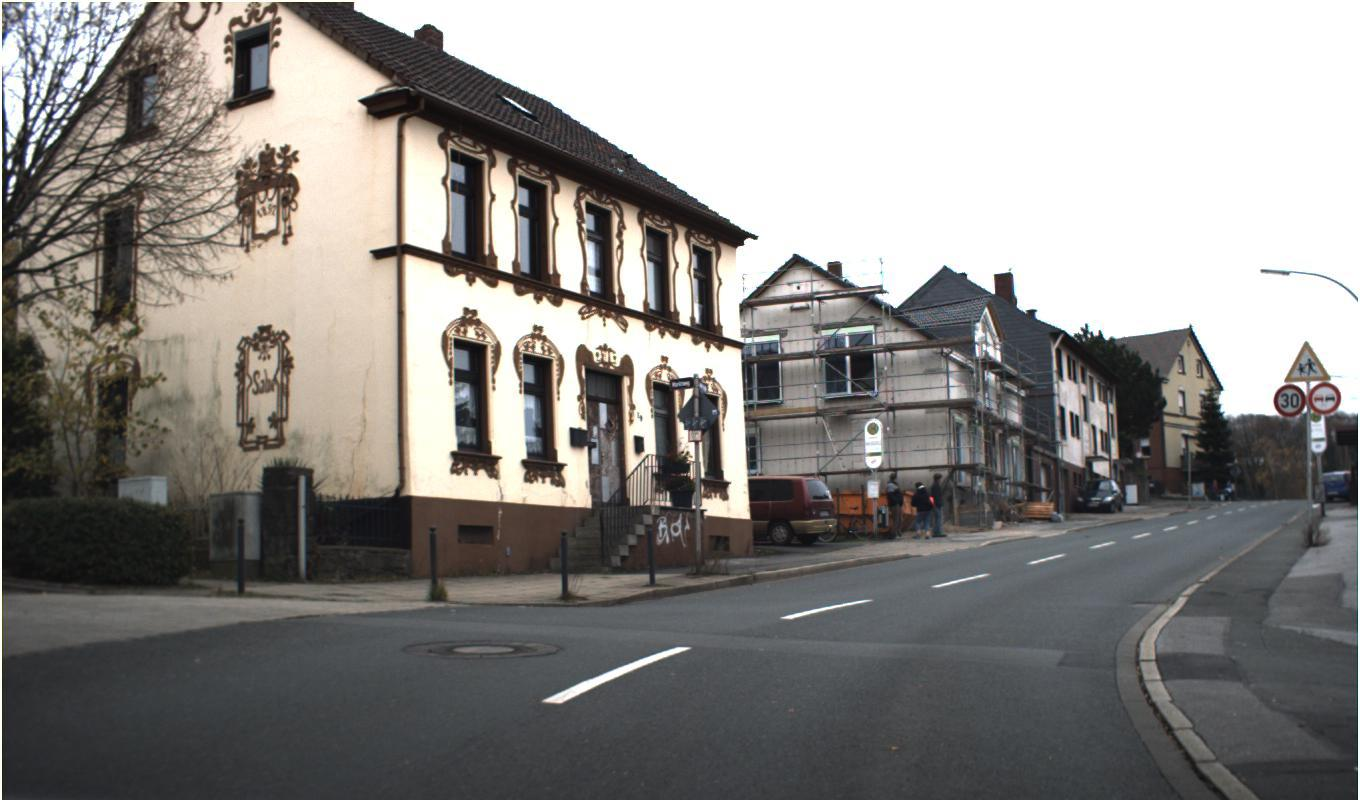28: (1282, 339, 1332, 383)
9: (1305, 382, 1341, 414)
speed limit 30 prohibitory: (1273, 384, 1305, 417)
